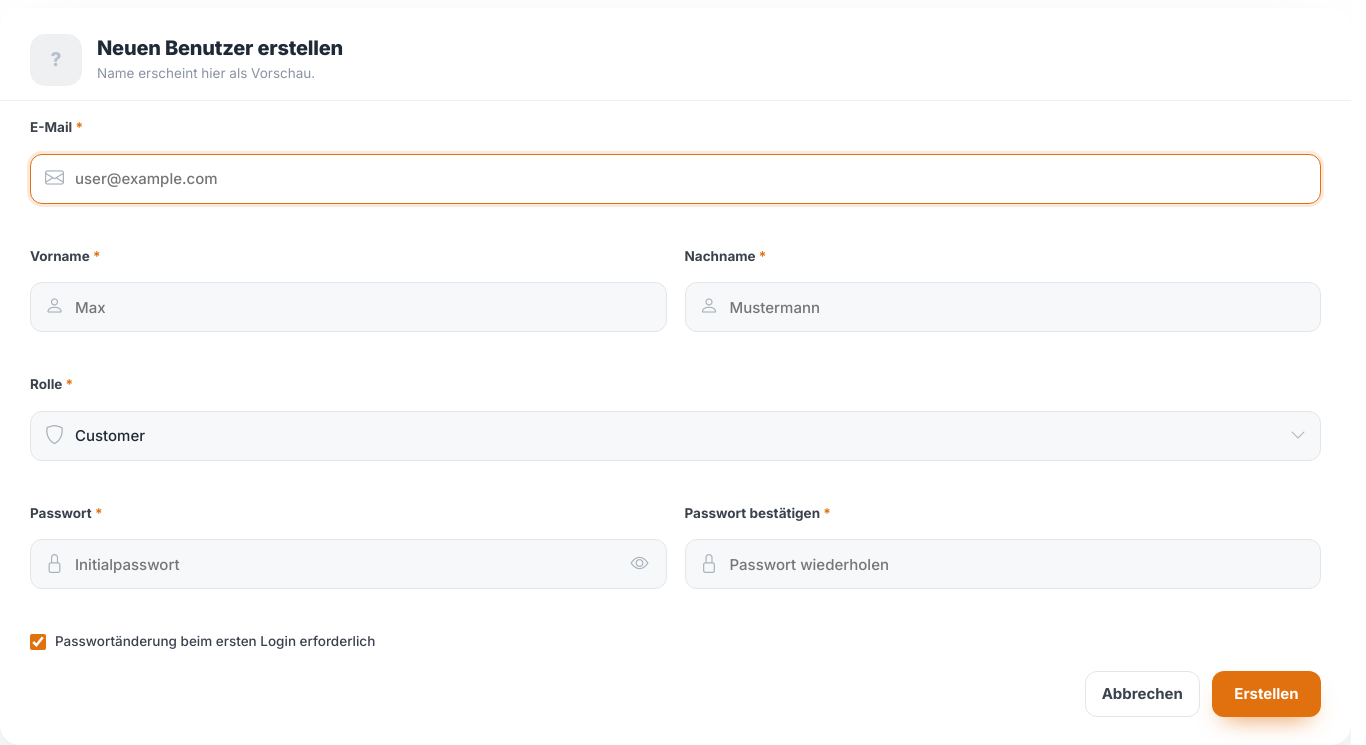
Test: PortalUserForm › Anlegen (users/new) › Given Pflichtfelder leer, When Erstellen, Then kein POST
Click the button "Erstellen": (1266, 694) [1212, 671, 1321, 717]
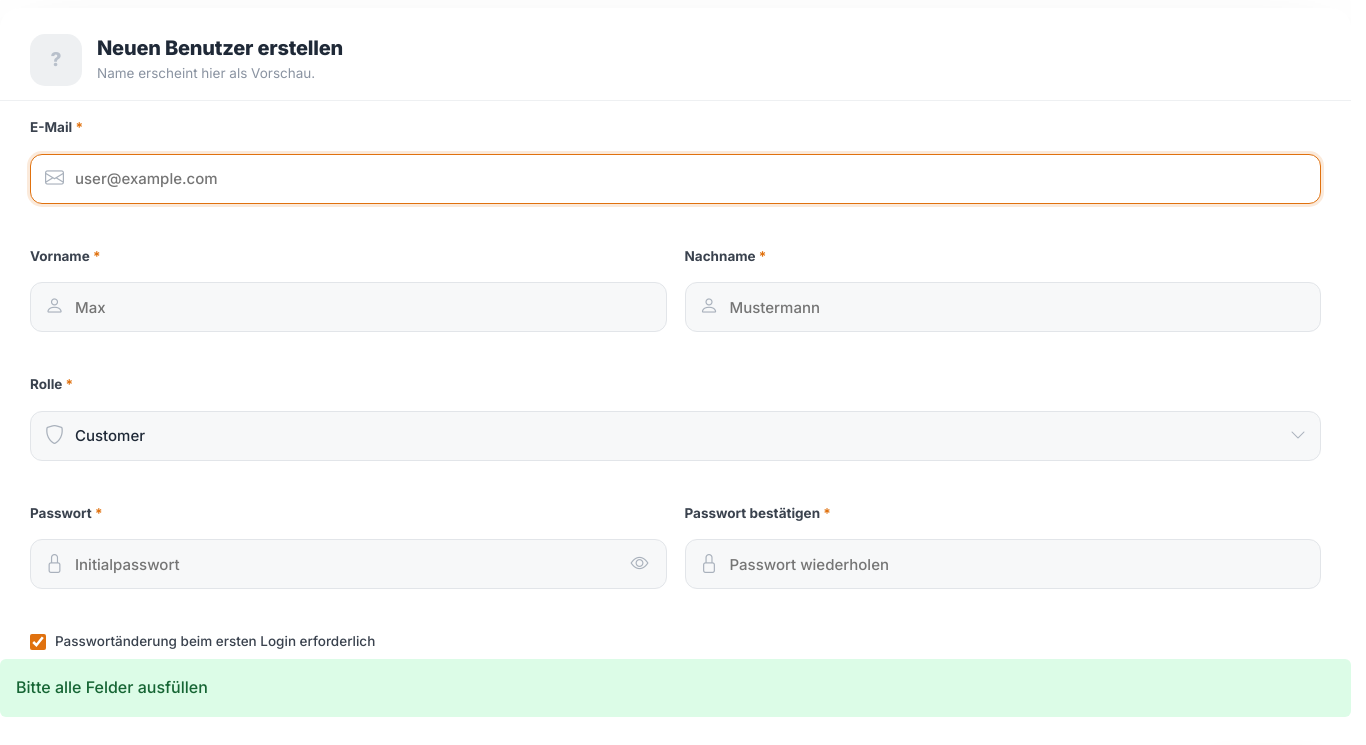
Now the text "Bitte alle Felder ausfüllen" is shown, box [0, 659, 1351, 717]
